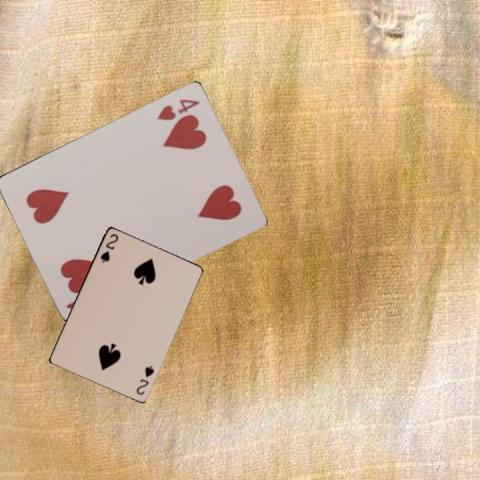2s: (98, 231, 120, 264), (134, 363, 155, 396)
4h: (154, 96, 201, 122)
